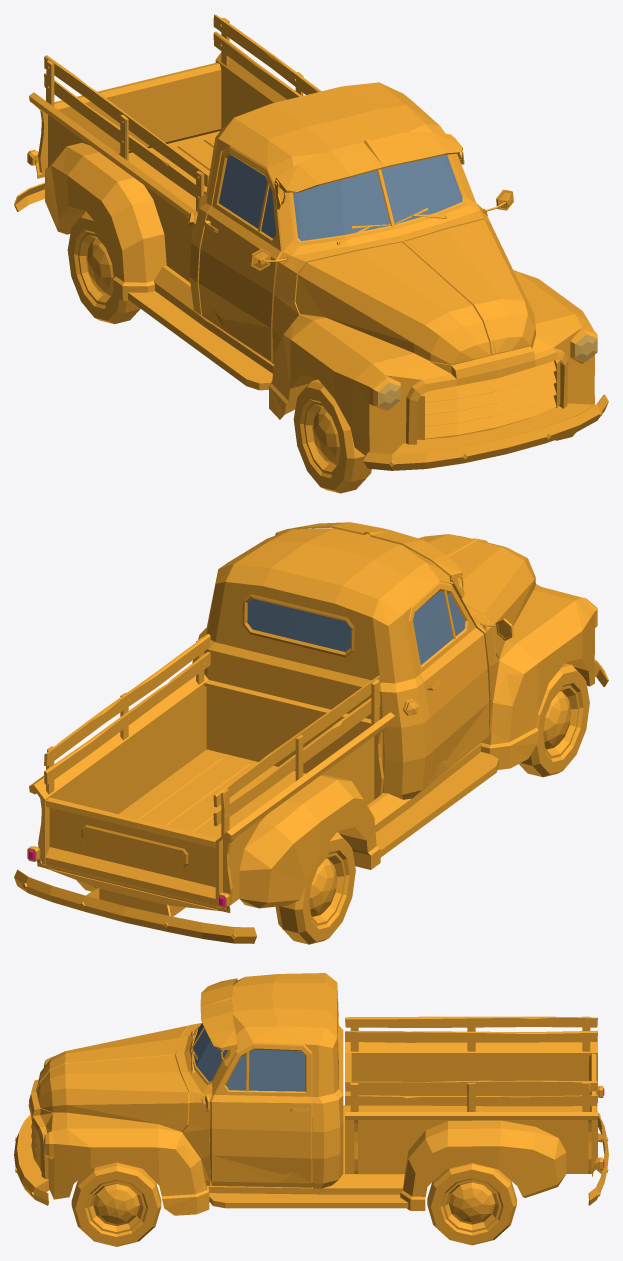
Rendered from SM_Pickup_Truck_Old_Farm.fbx.
3 renders of one model, top to bottom at view 1: azimuth 30°, elevation 25°; view 2: azimuth 150°, elevation 25°; view 3: azimuth 270°, elevation 25°, orthographic. The views are drawn at different scales.
Visible parts, largest first — view 1: pickup-truck-old-base-farm, pickup-truck-old-hood-farm, pickup-truck-old-door-r-farm, pickup-truck-old-back-a, pickup-truck-old-door-ba-farm, pickup-truck-old-flap-farm, pickup-truck-old-wheel-rfr-farm, pickup-truck-old-wheel-rba-farm; view 2: pickup-truck-old-base-farm, pickup-truck-old-door-ba-farm, pickup-truck-old-back-a, pickup-truck-old-door-r-farm, pickup-truck-old-hood-farm, pickup-truck-old-wheel-rba-farm, pickup-truck-old-wheel-rfr-farm, pickup-truck-old-flap-farm; view 3: pickup-truck-old-base-farm, pickup-truck-old-door-l-farm, pickup-truck-old-back-a, pickup-truck-old-hood-farm, pickup-truck-old-wheel-lfr-farm, pickup-truck-old-wheel-lba-farm, pickup-truck-old-flap-farm.
Boxes of the visible parts, x1=… form: pickup-truck-old-base-farm: x1=14, y1=52, x2=608, y2=470; pickup-truck-old-hood-farm: x1=295, y1=219, x2=535, y2=364; pickup-truck-old-door-r-farm: x1=198, y1=145, x2=282, y2=364; pickup-truck-old-back-a: x1=44, y1=14, x2=321, y2=211; pickup-truck-old-door-ba-farm: x1=54, y1=62, x2=221, y2=154; pickup-truck-old-flap-farm: x1=274, y1=131, x2=464, y2=209; pickup-truck-old-wheel-rfr-farm: x1=293, y1=379, x2=371, y2=493; pickup-truck-old-wheel-rba-farm: x1=67, y1=211, x2=140, y2=323; pickup-truck-old-base-farm: x1=14, y1=528, x2=608, y2=943; pickup-truck-old-door-ba-farm: x1=45, y1=797, x2=217, y2=907; pickup-truck-old-back-a: x1=44, y1=634, x2=380, y2=835; pickup-truck-old-door-r-farm: x1=408, y1=581, x2=489, y2=788; pickup-truck-old-hood-farm: x1=404, y1=534, x2=535, y2=658; pickup-truck-old-wheel-rba-farm: x1=275, y1=832, x2=355, y2=944; pickup-truck-old-wheel-rfr-farm: x1=519, y1=663, x2=589, y2=777; pickup-truck-old-flap-farm: x1=275, y1=522, x2=464, y2=598; pickup-truck-old-base-farm: x1=14, y1=973, x2=608, y2=1215; pickup-truck-old-door-l-farm: x1=210, y1=1042, x2=312, y2=1187; pickup-truck-old-back-a: x1=345, y1=1016, x2=597, y2=1111; pickup-truck-old-hood-farm: x1=36, y1=1025, x2=189, y2=1131; pickup-truck-old-wheel-lfr-farm: x1=71, y1=1162, x2=161, y2=1246; pickup-truck-old-wheel-lba-farm: x1=427, y1=1163, x2=516, y2=1245; pickup-truck-old-flap-farm: x1=200, y1=978, x2=237, y2=1066.
Size of the model in its own units: 1.99 by 1.94 by 5.04.
